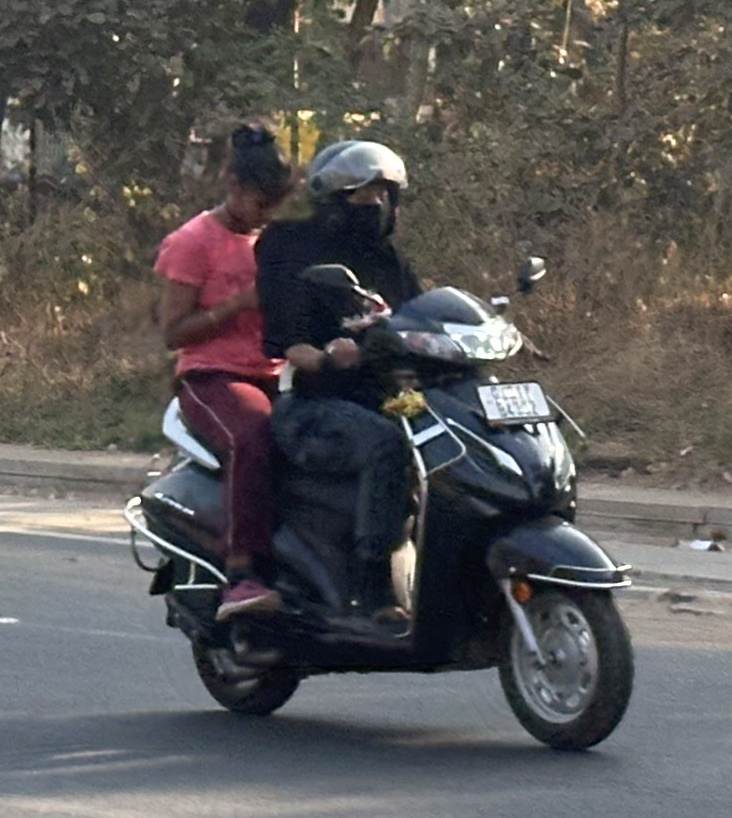BikeWithRider: (111, 105, 650, 760)
Helmet: (296, 130, 421, 246)
NoHelmet: (203, 114, 305, 235)
